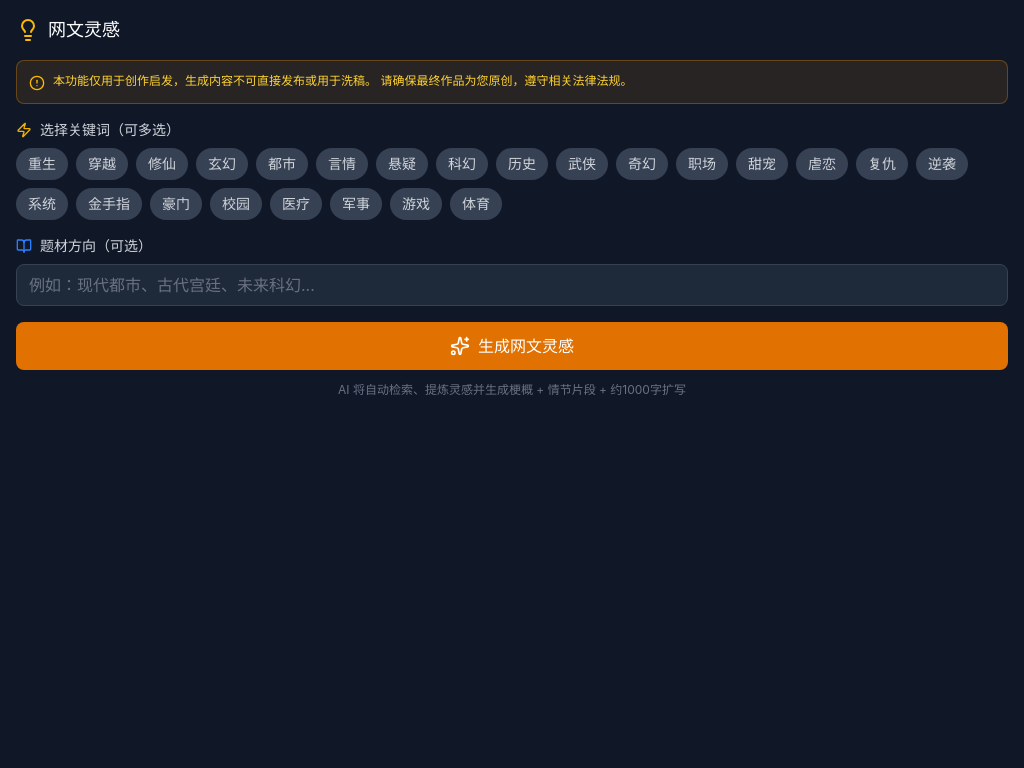
WebNovelInspiration Component › supports generate flow, tab switching and reset
Click the button "重生" at (42, 164), box [16, 148, 68, 180]
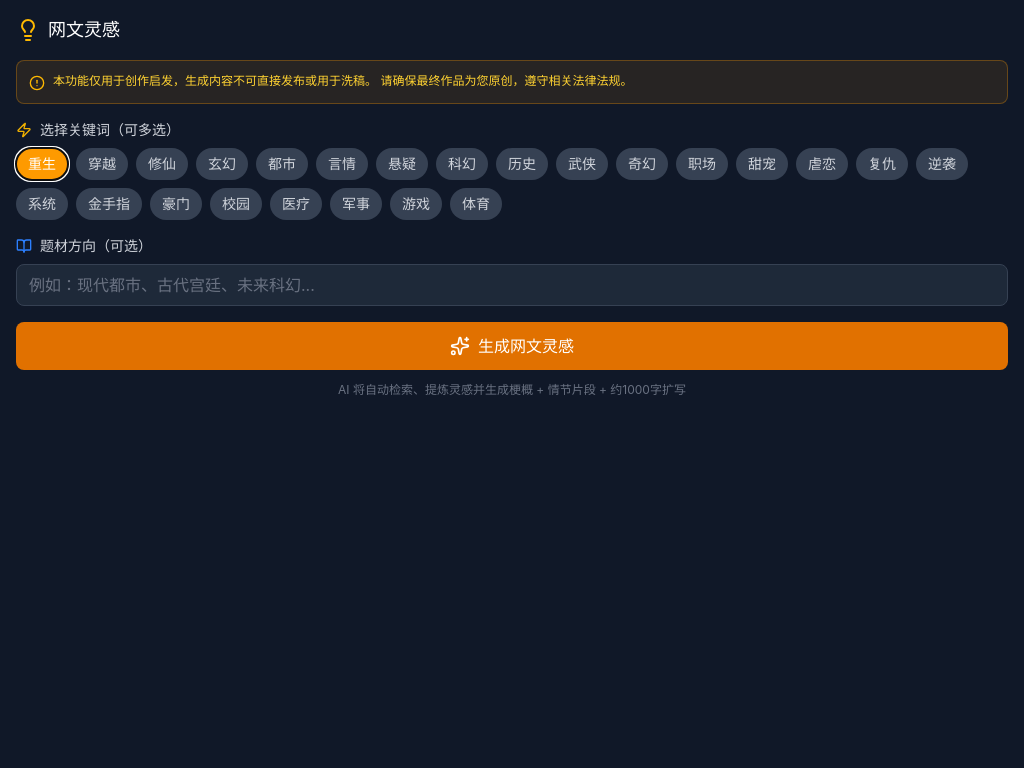
Click the button "生成网文灵感" at (512, 346), box [16, 322, 1008, 370]
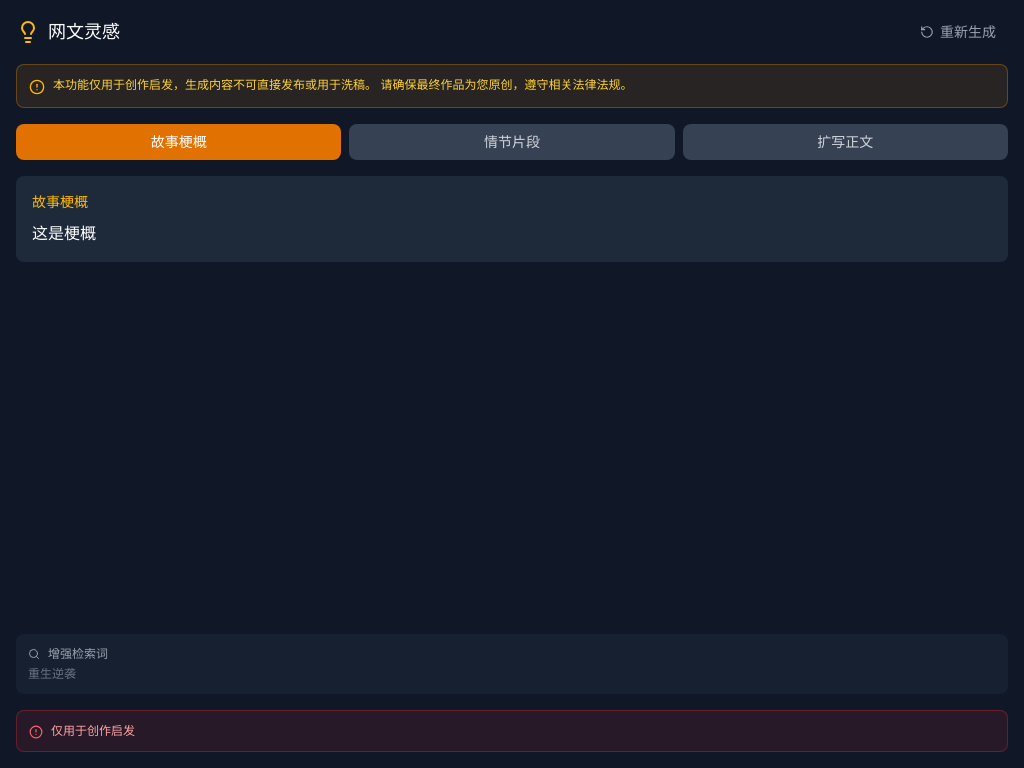
Result: the button "故事梗概" is shown at [16, 124, 341, 160]
Result: the text "这是梗概" is shown at [32, 223, 96, 243]
Click the button "情节片段" at (512, 142), box [349, 124, 675, 160]
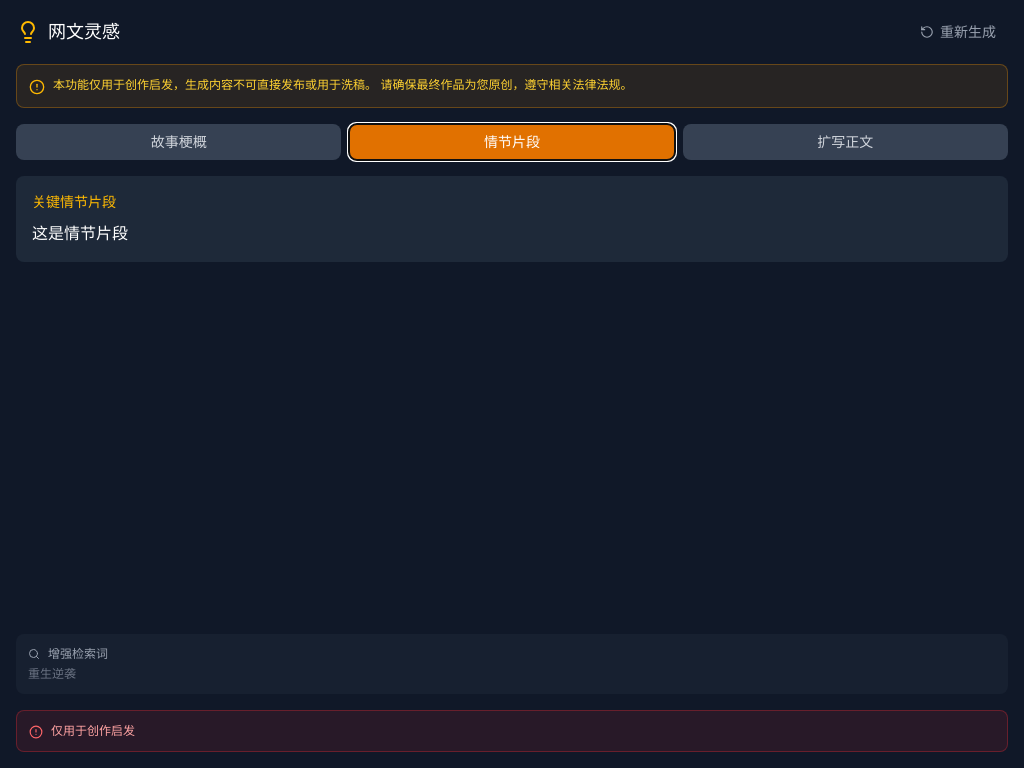
Result: the text "这是情节片段" is shown at [32, 223, 128, 243]
Click the button "扩写正文" at (845, 142), box [683, 124, 1008, 160]
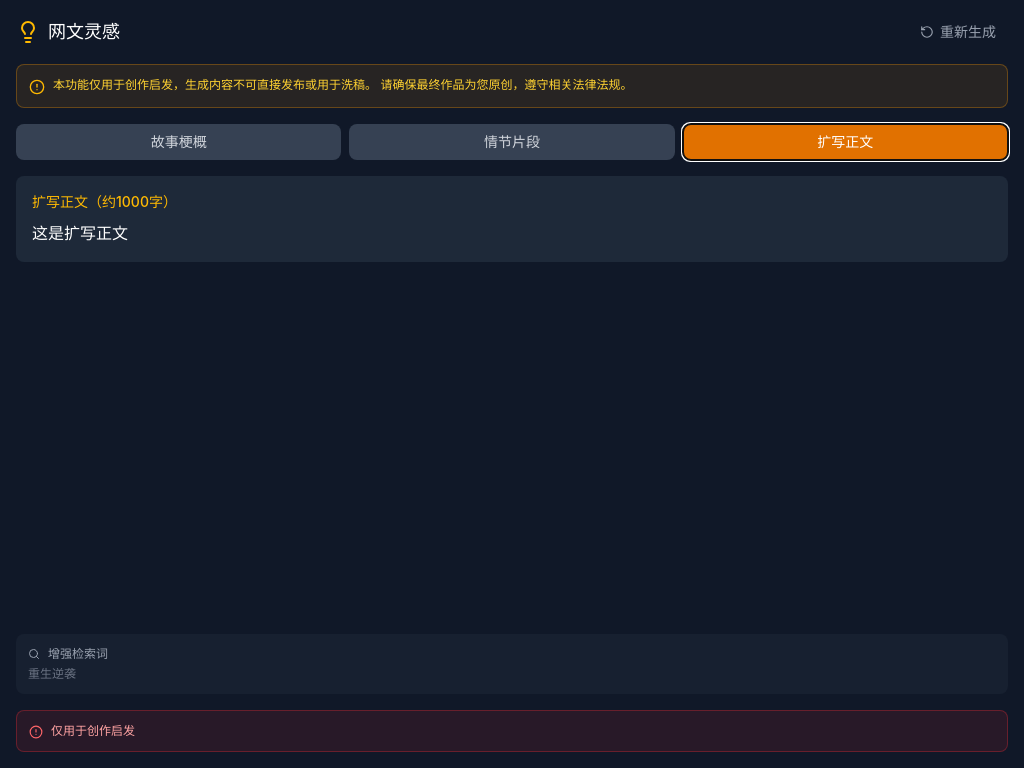
Result: the text "这是扩写正文" is shown at [32, 223, 128, 243]
Click the button "重新生成" at (958, 32), box [908, 16, 1008, 48]
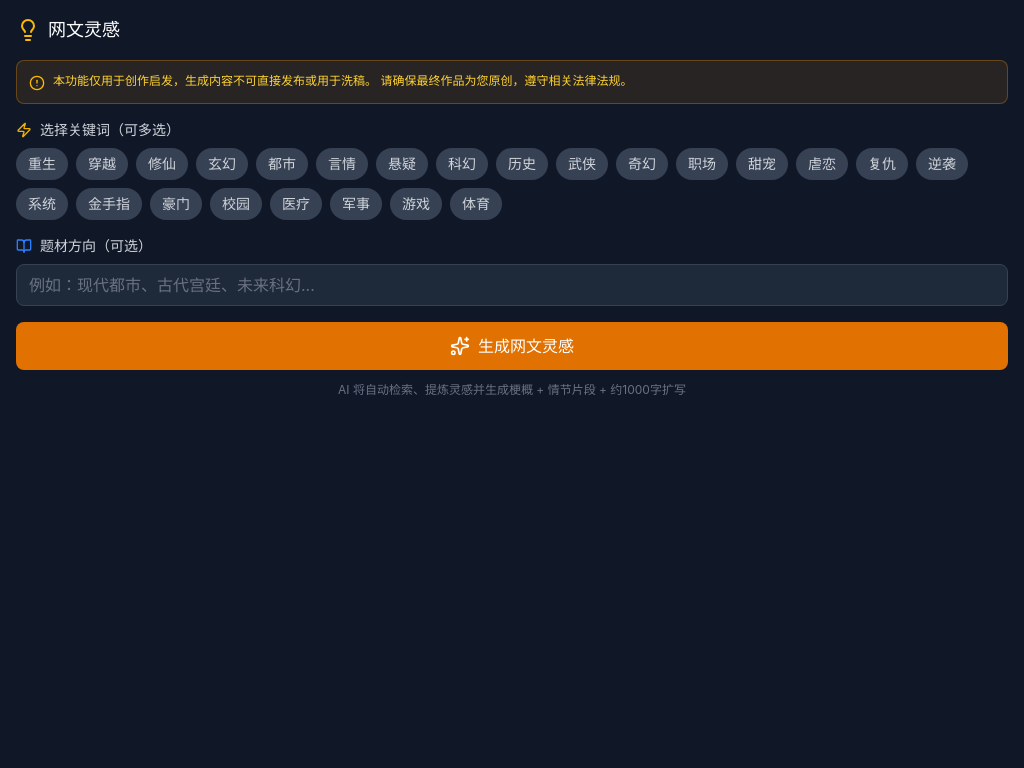
Result: the button "生成网文灵感" is shown at [16, 322, 1008, 370]
